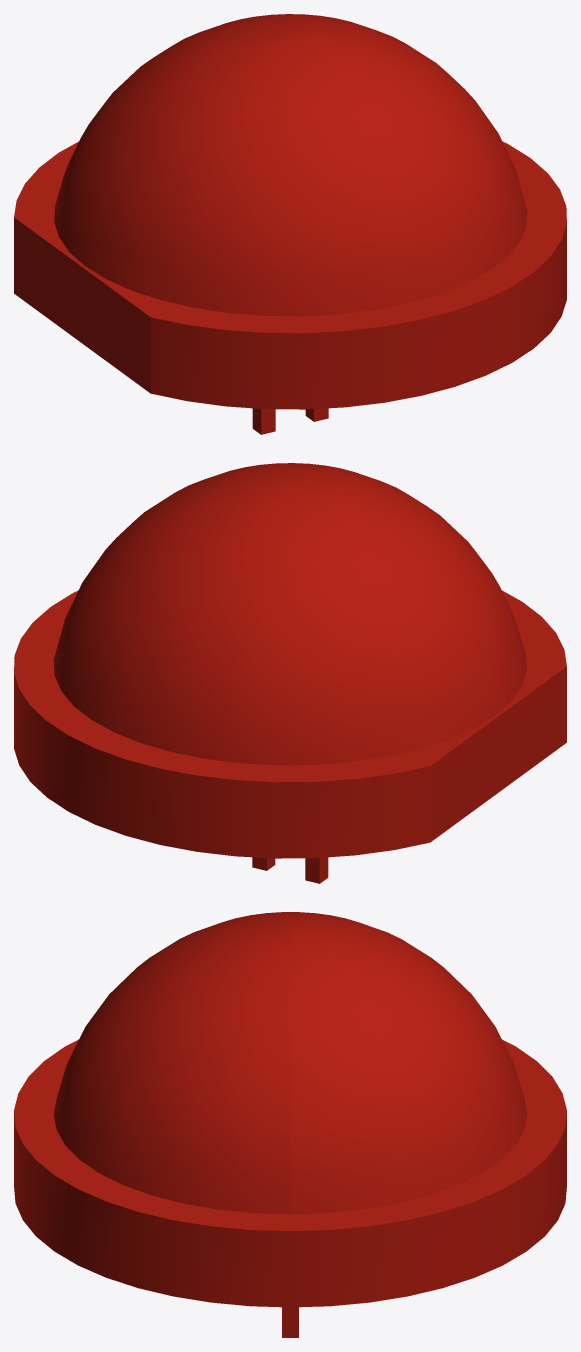
File: kc-led_d20.0mm.glb
3 renders of one model, top to bottom at view 1: azimuth 30°, elevation 25°; view 2: azimuth 150°, elevation 25°; view 3: azimuth 270°, elevation 25°, orthographic.
Parts seen in each view (by area): view 1: 0.4166666666666667_0_0_0; view 2: 0.4166666666666667_0_0_0; view 3: 0.4166666666666667_0_0_0.
Part boxes in pixels (x1,y1,x2,y2): 0.4166666666666667_0_0_0: [14, 14, 566, 434]; 0.4166666666666667_0_0_0: [14, 463, 566, 883]; 0.4166666666666667_0_0_0: [14, 912, 566, 1337].
Bounding box in the file's own units: 2.15 × 1.78 × 2.3.
